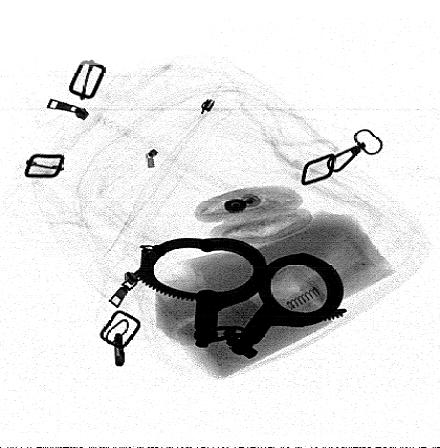HandCuffs: (132, 237, 347, 358)
